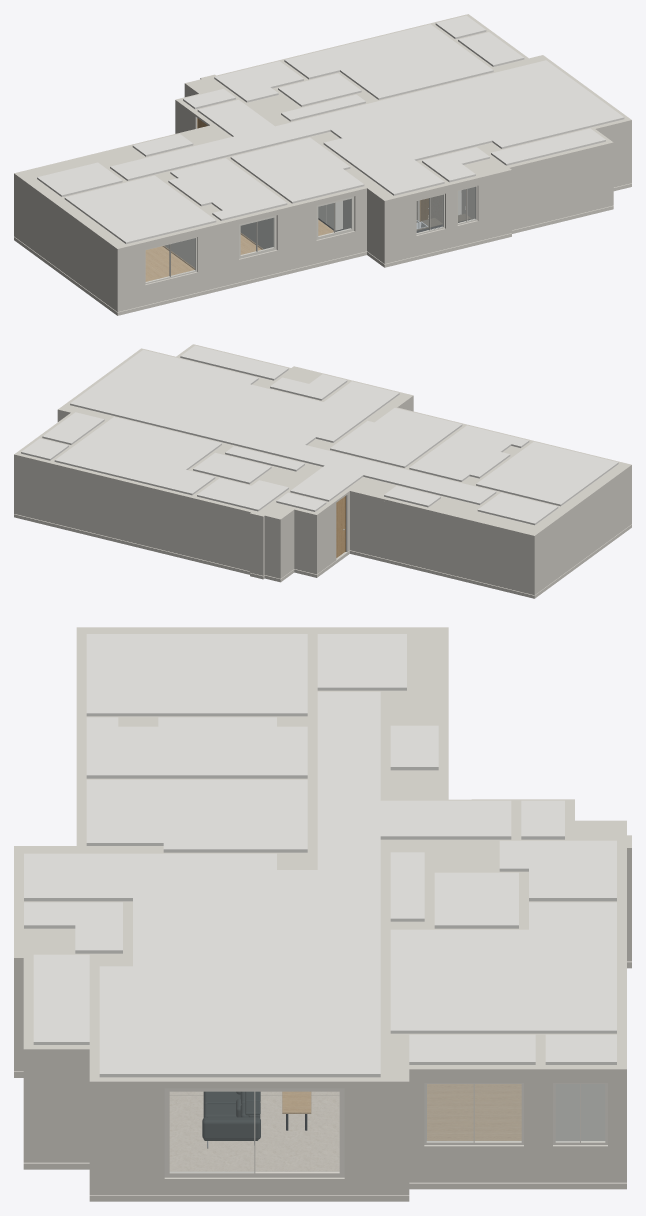
Rendered from acro168c-expanded.glb.
3 views of the same model, one above another, from view 1: azimuth 30°, elevation 25°; view 2: azimuth 150°, elevation 25°; view 3: azimuth 270°, elevation 25° (orthographic). The views are drawn at different scales.
Parts seen in each view (by area): view 1: Ceiling/04, Wall/layer-07/00, Ceiling/09, Wall/layer-01/00, Wall/layer-00/00, Ceiling/05, Wall/layer-03/05, Ceiling/07, Wall/layer-03/00, Ceiling/06, Base/00, Wall/layer-03/03 (+29 smaller); view 2: Ceiling/04, Wall/layer-03/08, Wall/layer-07/00, Wall/layer-03/00, Ceiling/09, Wall/layer-00/00, Ceiling/05, Ceiling/07, Wall/layer-01/01, Ceiling/06, Wall/layer-01/00, Base/00 (+20 smaller); view 3: Ceiling/04, Wall/layer-07/00, Ceiling/09, Ceiling/05, Ceiling/07, Ceiling/06, Wall/layer-00/00, Floor/living-kitchen-hall, Wall/layer-03/05, Wall/layer-01/01, living-main-window/glass-1, living-main-window/glass-0 (+32 smaller).
Boxes of the visible parts, left/top/right/bottom form: Ceiling/04: left=110, top=60, right=624, bottom=195; Wall/layer-07/00: left=14, top=14, right=631, bottom=250; Ceiling/09: left=284, top=24, right=493, bottom=99; Wall/layer-01/00: left=14, top=163, right=631, bottom=303; Wall/layer-00/00: left=14, top=174, right=631, bottom=311; Ceiling/05: left=64, top=175, right=216, bottom=244; Wall/layer-03/05: left=416, top=127, right=631, bottom=218; Ceiling/07: left=230, top=137, right=364, bottom=203; Wall/layer-03/00: left=14, top=181, right=145, bottom=289; Ceiling/06: left=168, top=158, right=287, bottom=220; Base/00: left=14, top=183, right=631, bottom=315; Wall/layer-03/03: left=343, top=196, right=416, bottom=241; Ceiling/04: left=70, top=349, right=496, bottom=504; Wall/layer-03/08: left=14, top=461, right=336, bottom=557; Wall/layer-07/00: left=14, top=344, right=631, bottom=537; Wall/layer-03/00: left=346, top=472, right=631, bottom=573; Ceiling/09: left=54, top=417, right=221, bottom=495; Wall/layer-00/00: left=14, top=505, right=631, bottom=595; Ceiling/05: left=476, top=441, right=618, bottom=506; Ceiling/07: left=330, top=408, right=462, bottom=467; Wall/layer-01/01: left=14, top=495, right=336, bottom=570; Ceiling/06: left=409, top=425, right=529, bottom=481; Wall/layer-01/00: left=346, top=505, right=631, bottom=586; Base/00: left=14, top=514, right=631, bottom=598; Ceiling/04: left=24, top=691, right=511, bottom=1077; Wall/layer-07/00: left=14, top=627, right=631, bottom=1085; Ceiling/09: left=390, top=902, right=616, bottom=1033; Ceiling/05: left=86, top=634, right=307, bottom=716; Ceiling/07: left=86, top=779, right=307, bottom=852; Ceiling/06: left=86, top=717, right=307, bottom=778; Wall/layer-00/00: left=14, top=945, right=631, bottom=1194; Floor/living-kitchen-hall: left=169, top=1091, right=339, bottom=1171; Wall/layer-03/05: left=14, top=971, right=164, bottom=1153; Wall/layer-01/01: left=344, top=925, right=631, bottom=1178; living-main-window/glass-1: left=170, top=1092, right=253, bottom=1172; living-main-window/glass-0: left=255, top=1092, right=339, bottom=1171.
Size of the model in its own units: 21.48 by 2.72 by 12.35.
26 materials, 9 textured.
